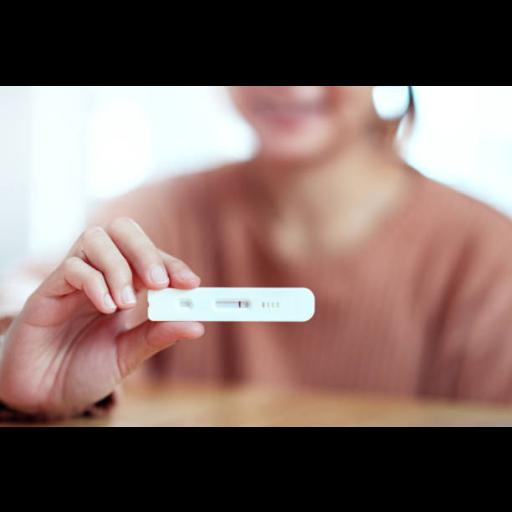Neg: (146, 286, 314, 320)
